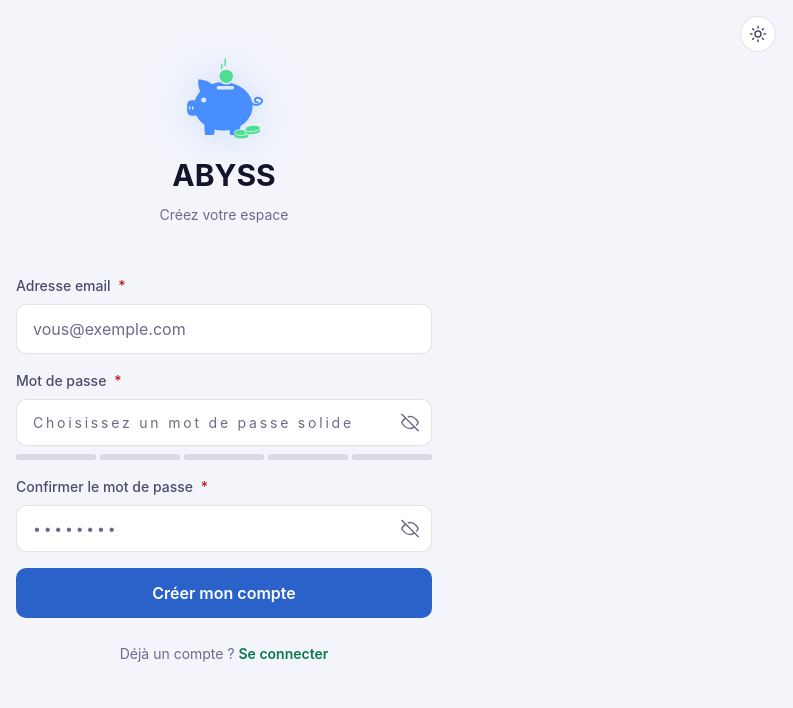
Scenario: RegisterPage — validation › refuse un mot de passe « Moyen » : la barre est à « Fort »
This screenshot has width=793, height=708.
In the field with id "register-email": coordinates (224, 329) [16,304,432,354], type "alice@example.com"
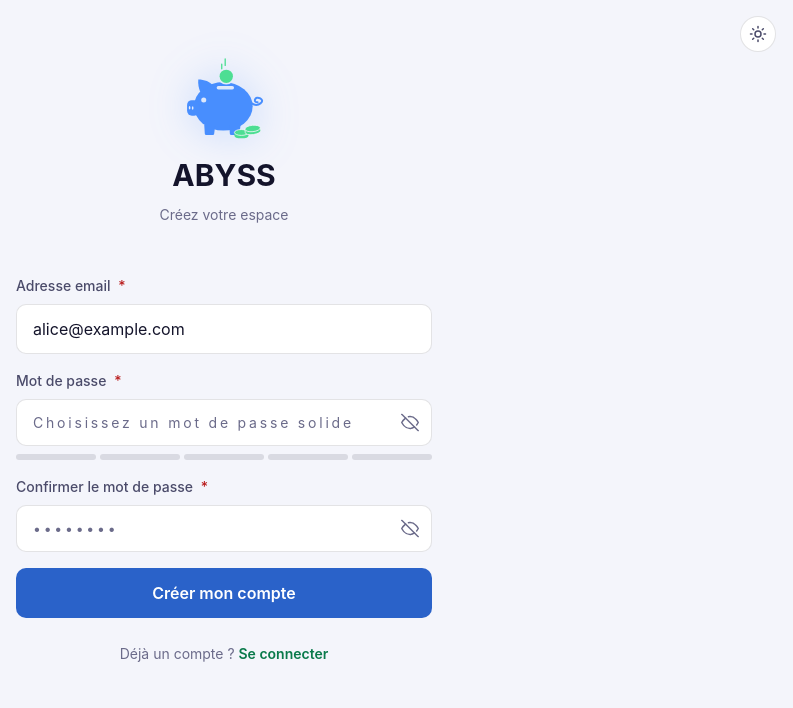
In the password field with id "register-password": coordinates (224, 423) [16,399,432,446], type "Zx9!Qw8@"
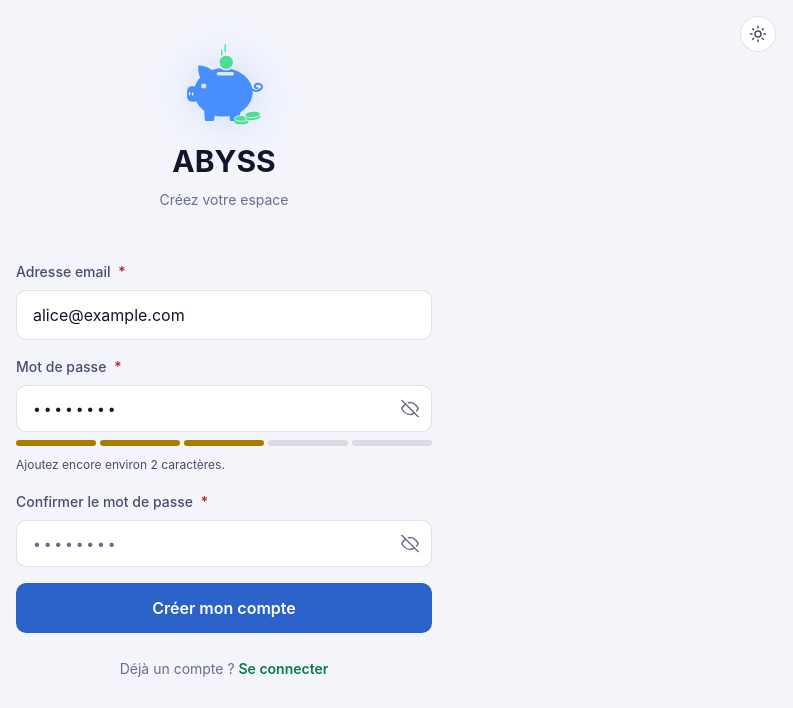
In the password field with id "register-confirm": coordinates (224, 543) [16,520,432,567], type "Zx9!Qw8@"
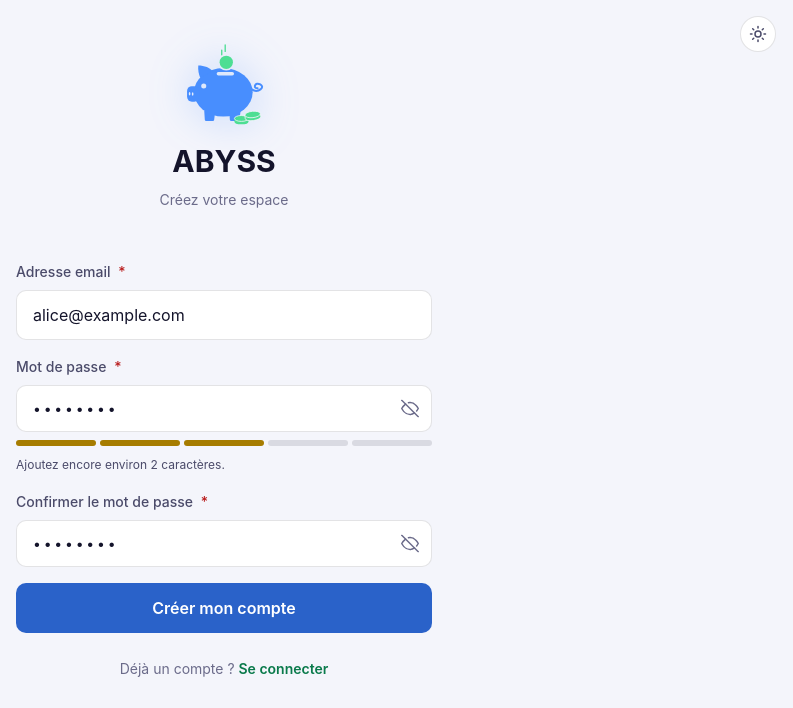
Submit the form, box [16,261,432,633]
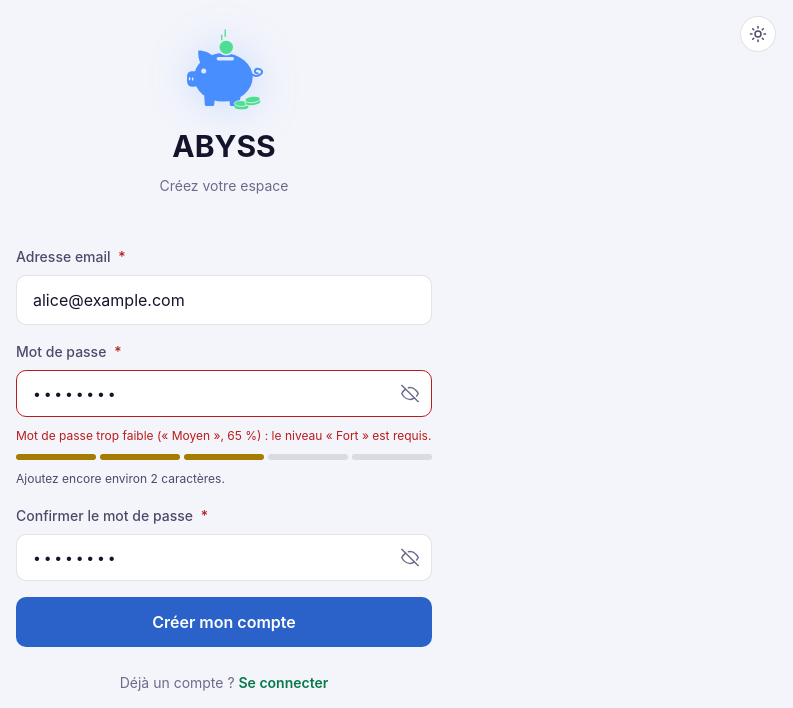
expect the text "« Moyen »" is shown: met, box [16,428,431,443]
